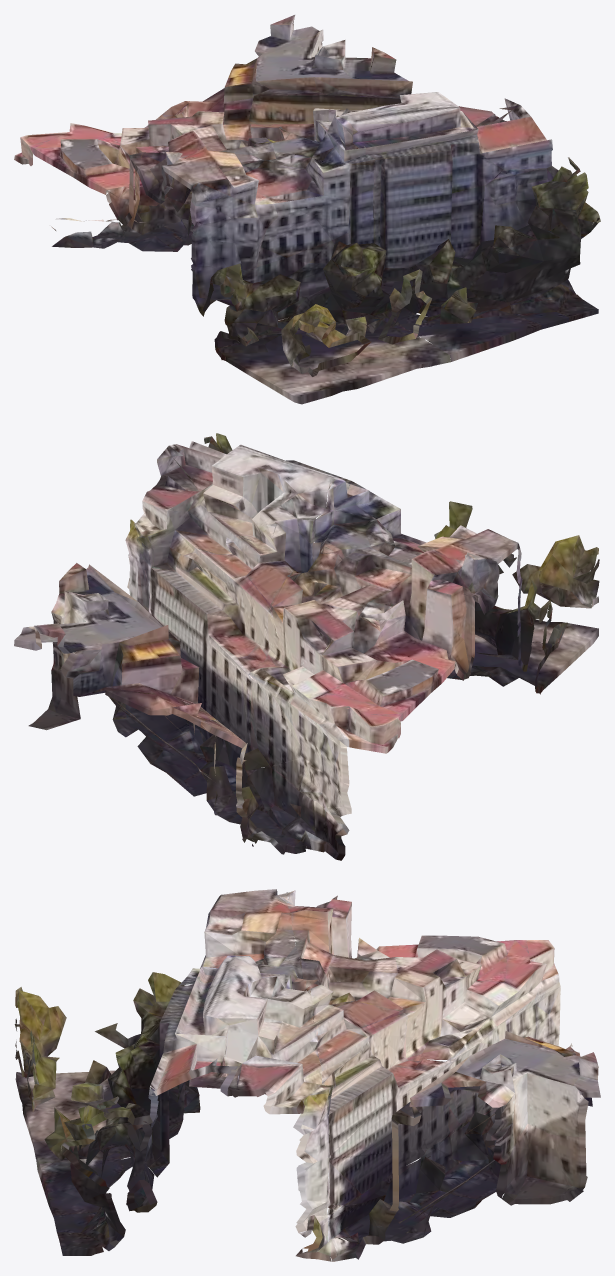
3 renders of one model, top to bottom at view 1: azimuth 30°, elevation 25°; view 2: azimuth 150°, elevation 25°; view 3: azimuth 270°, elevation 25°, orthographic. The views are drawn at different scales.
Visible parts, largest first — view 1: Mesh_0; view 2: Mesh_0; view 3: Mesh_0.
Boxes of the visible parts, x1,y1,x2,y2 form: Mesh_0: [14, 15, 600, 404]; Mesh_0: [14, 433, 599, 860]; Mesh_0: [14, 889, 600, 1261].
Bounding box in the file's own units: 66.86 × 36.47 × 82.65.
Materials: 1 (1 with a texture image).
